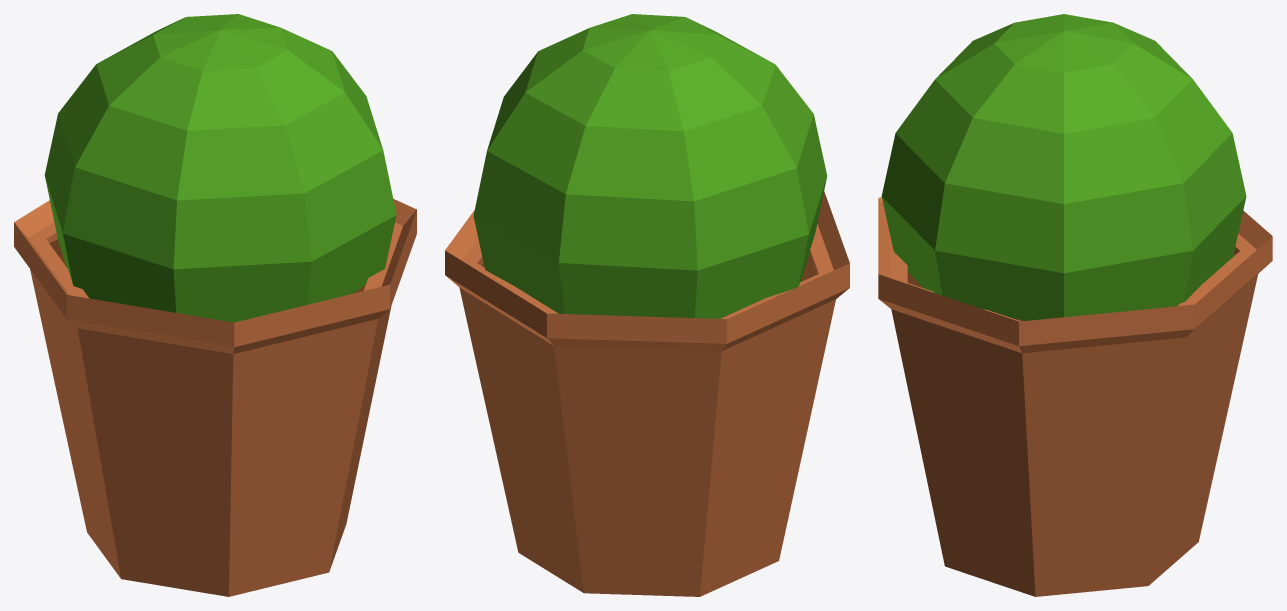
The model's file is FlowerPot.fbx.
3 views of the same model, side by side, from view 1: azimuth 30°, elevation 25°; view 2: azimuth 150°, elevation 25°; view 3: azimuth 270°, elevation 25° (orthographic).
Visible parts, largest first — view 1: FlowerPot; view 2: FlowerPot; view 3: FlowerPot.
Boxes of the visible parts, x1,y1,x2,y2 form: FlowerPot: [14, 14, 416, 596]; FlowerPot: [445, 14, 849, 596]; FlowerPot: [878, 14, 1272, 596].
Bounding box in the file's own units: 541 × 754 × 527.
